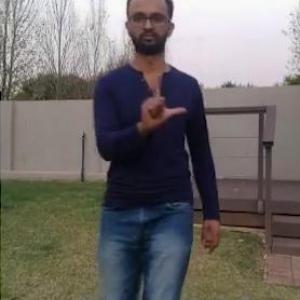land_hand: (134, 69, 189, 133)
